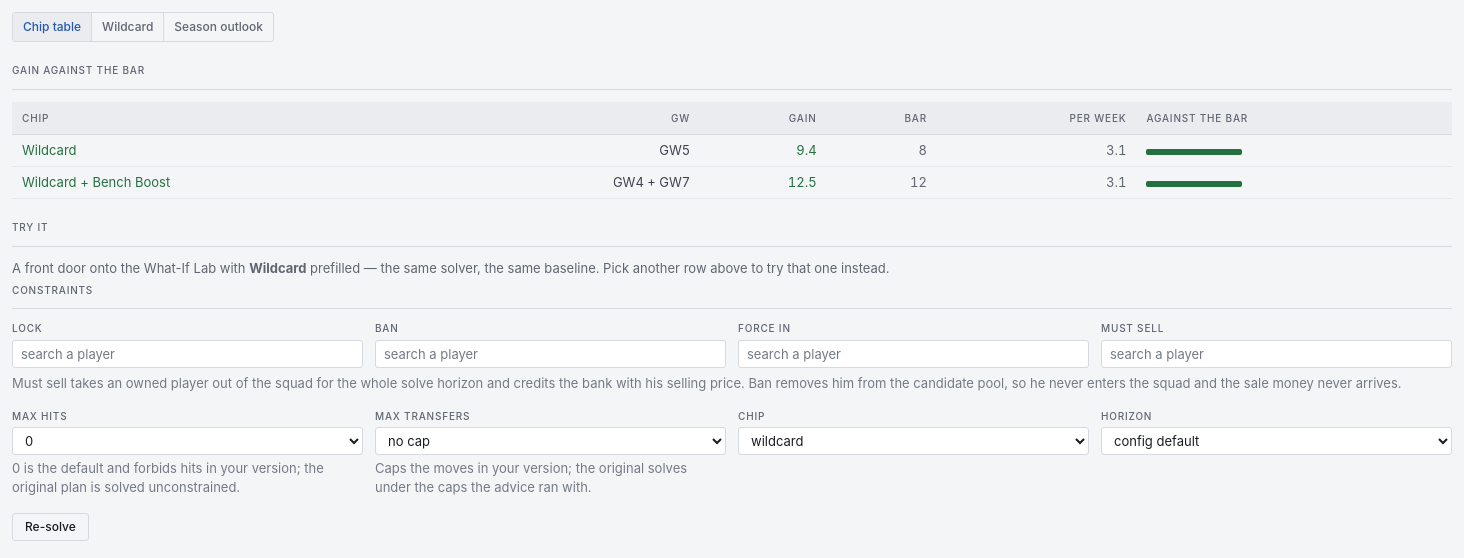
chips tab › offers no What-If arm for a chip pair, and says why
Later steps or results of the test are not shown.
What coordinates should you click on to do the following:
click the button "Wildcard + Bench Boost"
I would click on:
 (96, 182)
Its box is [22,173,170,191].
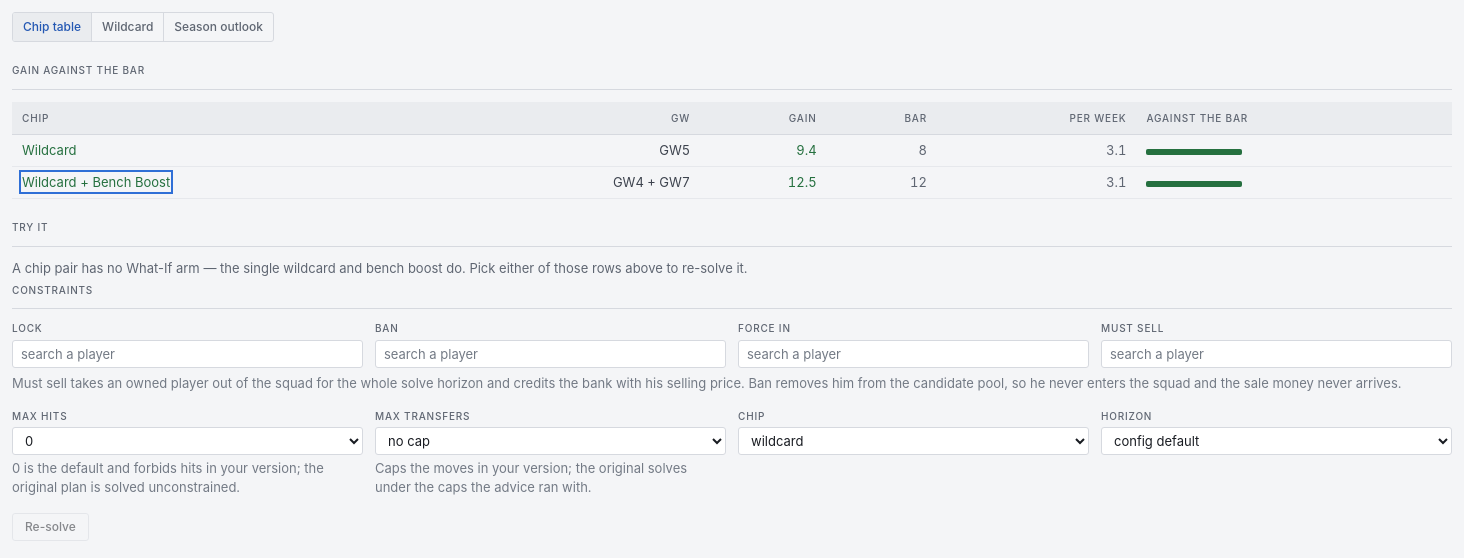
Now the button "Re-solve" is disabled, box [12,513,89,541]
Now the text "A chip pair has no What-If arm" is shown, box [12,260,748,276]
What coordinates should you click on to do the following:
click the button "Wildcard" in the row of "GW5"
I would click on:
 (49, 150)
Its box is [22,141,77,159].
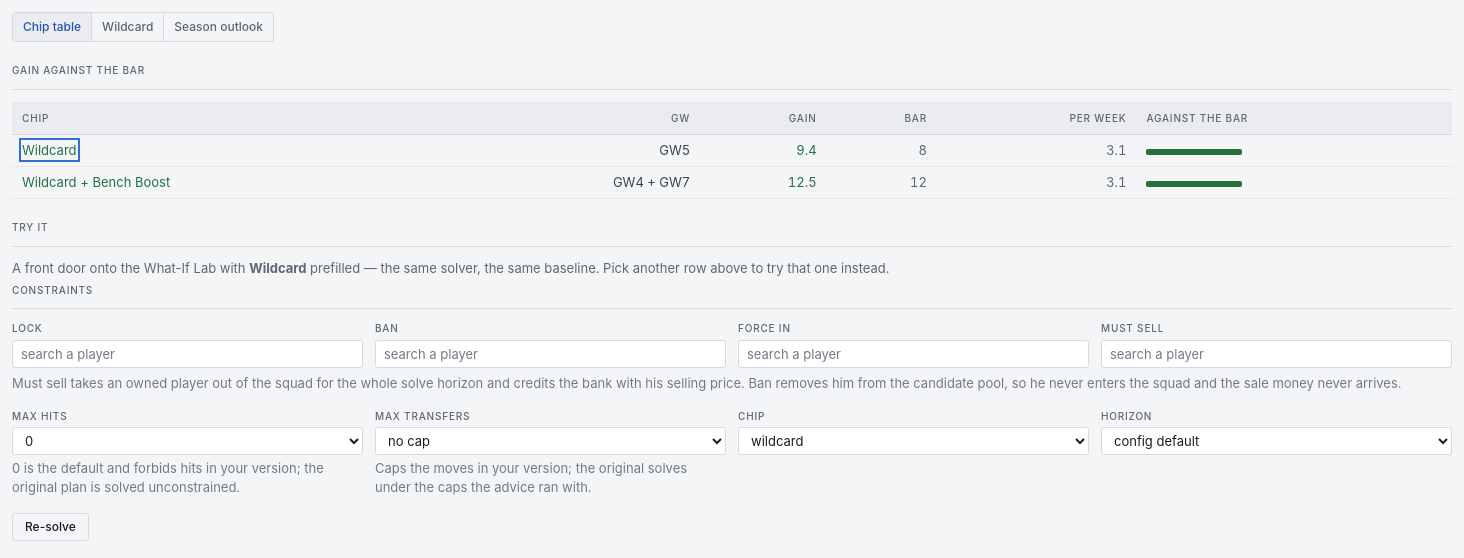
Now the button "Re-solve" is enabled, box [12,513,89,541]
